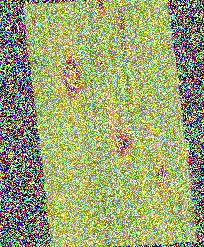Bacterial_Leaf_Blight: (102, 101, 135, 160), (59, 46, 87, 99), (144, 149, 180, 189), (58, 226, 73, 247), (28, 9, 41, 30), (94, 1, 107, 13)
